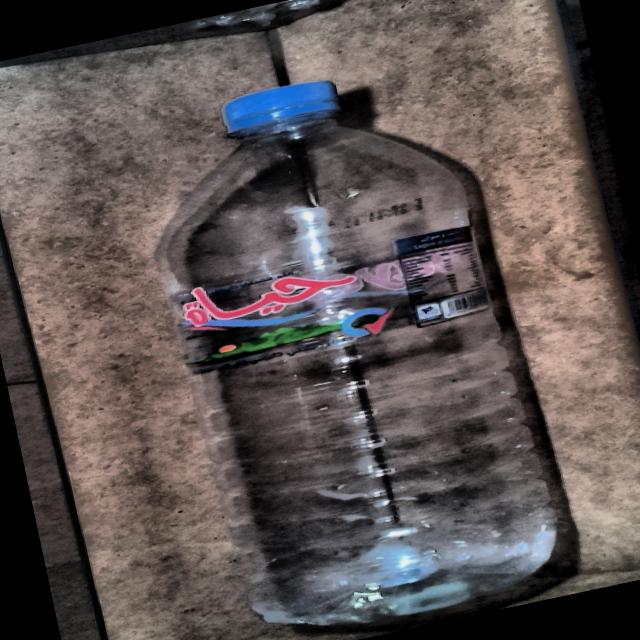plastic bottle: (157, 80, 557, 625)
